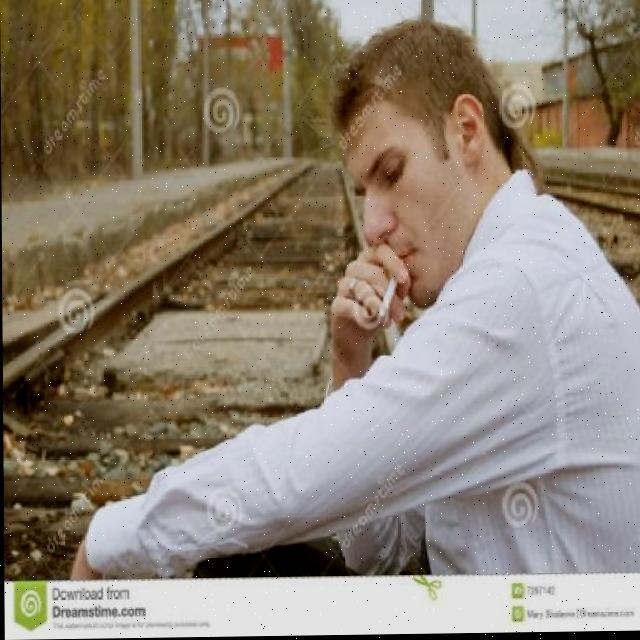cigarette: (379, 278, 396, 319)
